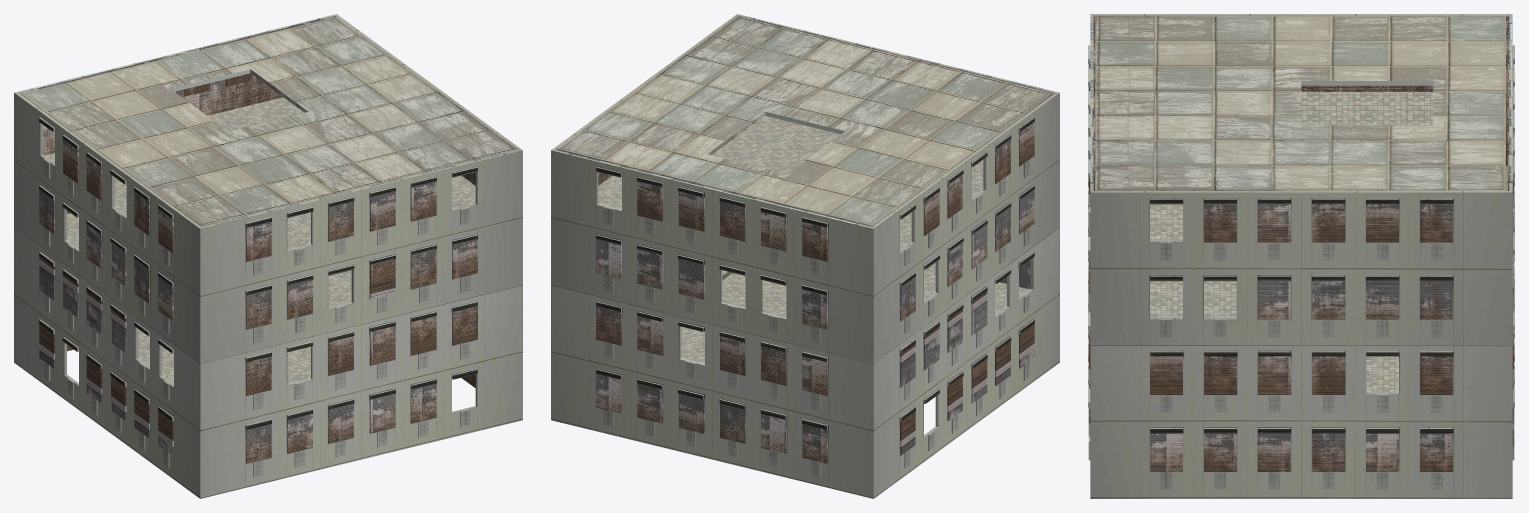
Rendered from BagSS03mid_500.fbx.
3 renders of one model, left to right at view 1: azimuth 30°, elevation 25°; view 2: azimuth 150°, elevation 25°; view 3: azimuth 270°, elevation 25°, orthographic. The views are drawn at different scales.
Parts seen in each view (by area): view 1: midMain500, midFloors500, midWindows500, midinterior500, midCeiling500; view 2: midMain500, midFloors500, midWindows500, midinterior500; view 3: midMain500, midFloors500, midWindows500, midinterior500, midCeiling500.
Boxes of the visible parts, box(x1,y1,x2,y2) form: midMain500: box(14, 14, 522, 498); midFloors500: box(20, 17, 517, 384); midWindows500: box(39, 73, 477, 463); midinterior500: box(19, 16, 475, 387); midCeiling500: box(170, 69, 517, 226); midMain500: box(551, 14, 1059, 498); midFloors500: box(557, 16, 1054, 363); midWindows500: box(596, 122, 1034, 463); midinterior500: box(556, 16, 1054, 289); midMain500: box(1088, 14, 1514, 498); midFloors500: box(1095, 15, 1507, 392); midWindows500: box(1088, 50, 1514, 471); midinterior500: box(1093, 15, 1509, 165); midCeiling500: box(1301, 81, 1433, 85).
Size of the model in its own units: 20.7 by 16.4 by 20.7.
